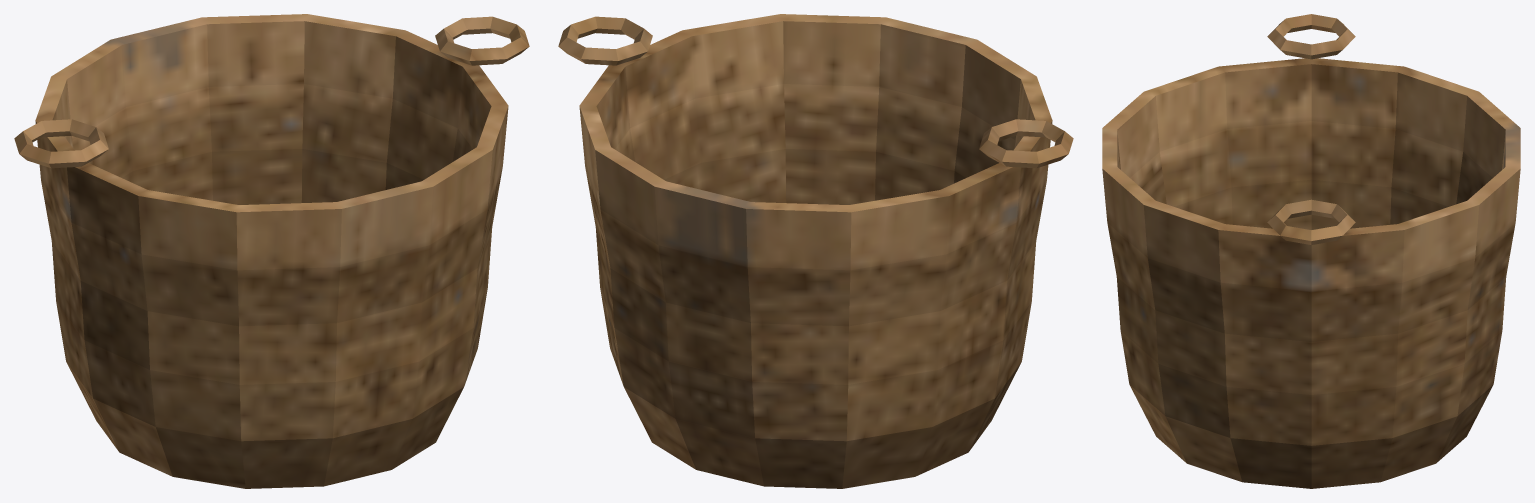
Rendered from prop_basket.glb.
The picture shows the model from 3 angles, left to right: view 1: azimuth 30°, elevation 25°; view 2: azimuth 150°, elevation 25°; view 3: azimuth 270°, elevation 25°; orthographic projection. The views are drawn at different scales.
Parts seen in each view (by area): view 1: geometry_0; view 2: geometry_0; view 3: geometry_0.
Part boxes in pixels (x1,y1,x2,y2): geometry_0: (14, 14, 529, 488); geometry_0: (558, 14, 1073, 488); geometry_0: (1102, 14, 1520, 488).
Bounding box in the file's own units: 0.5124 × 0.3207 × 0.406.
1 material, 1 textured.
